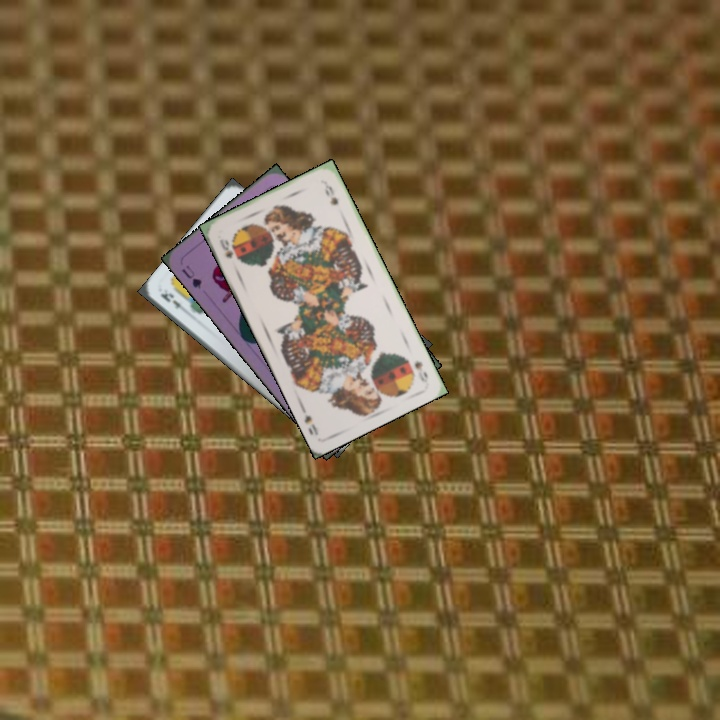EK: (156, 285, 191, 317)
GU: (177, 261, 204, 291)
SO: (215, 235, 241, 262), (410, 356, 431, 385)
